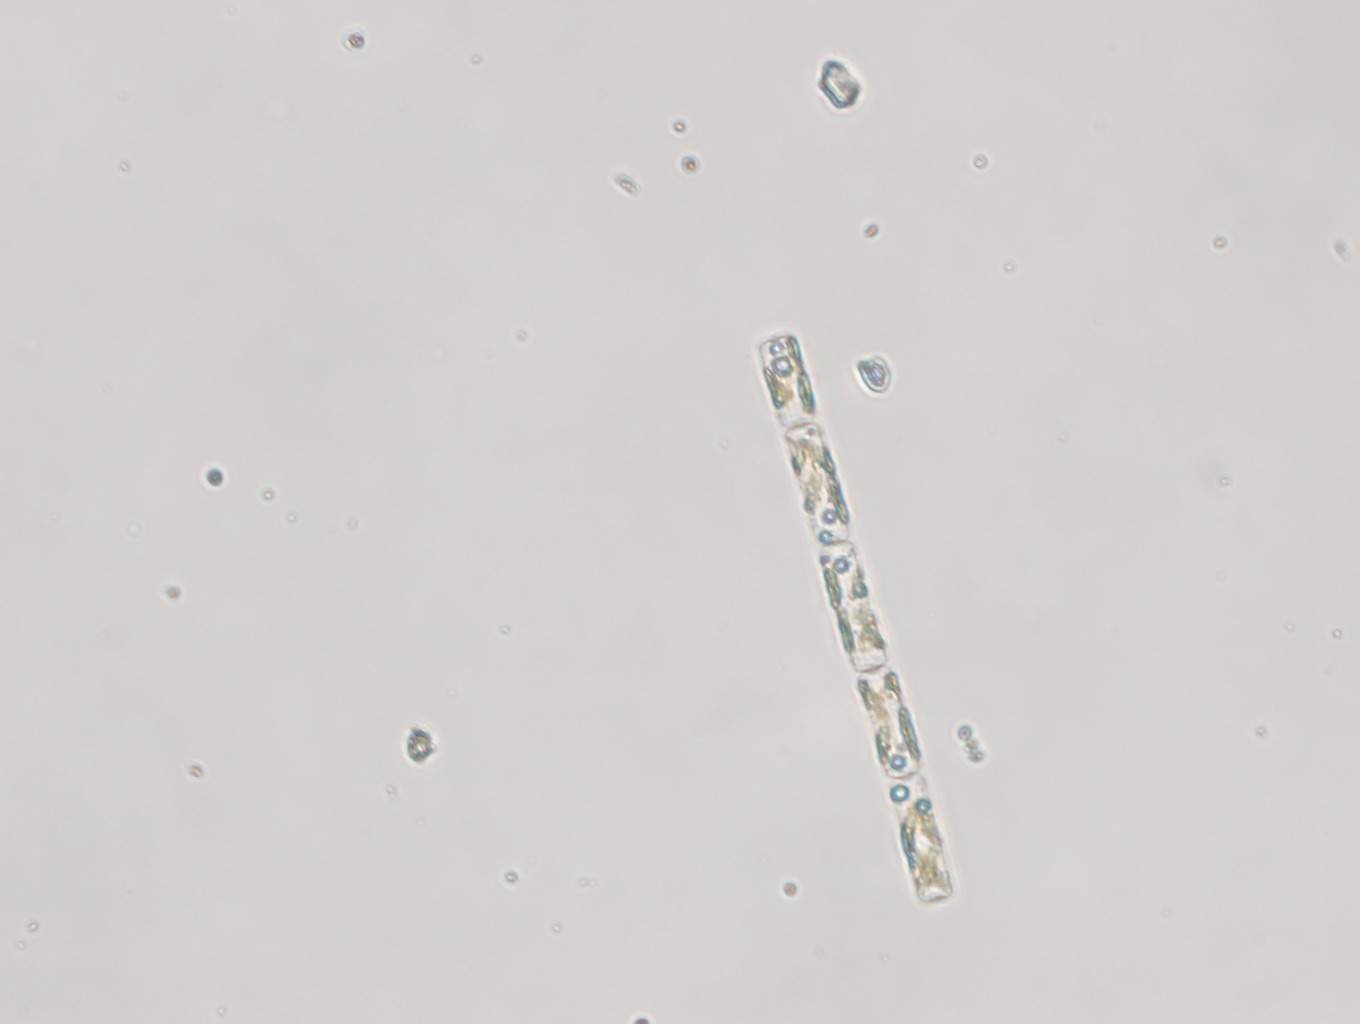guinardia flaccida: (755, 329, 962, 915)
